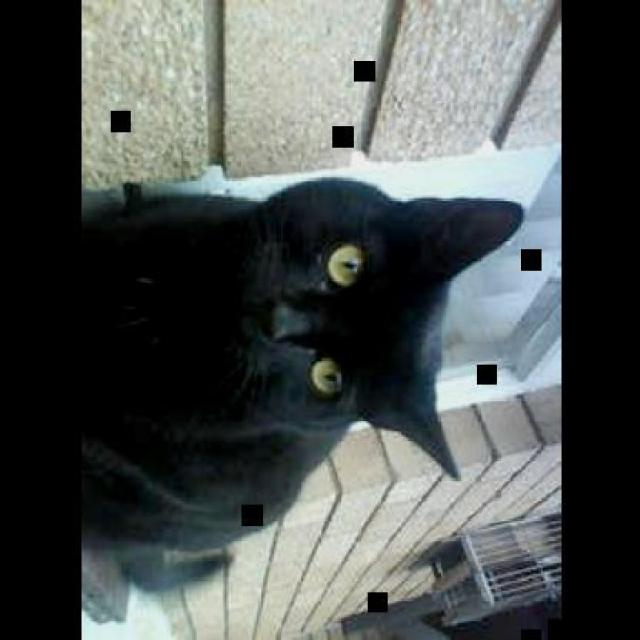unauthorized: (79, 174, 523, 623)
